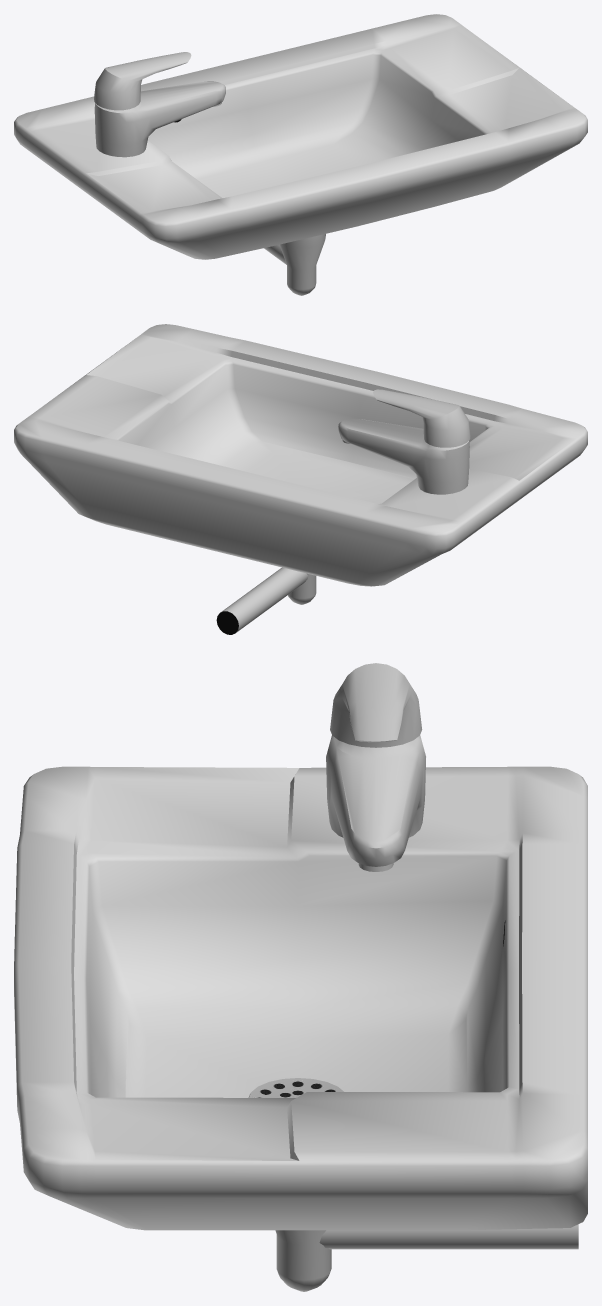
The model's file is sh_scopia_hand_washbasin.glb.
3 views of the same model, one above another, from view 1: azimuth 30°, elevation 25°; view 2: azimuth 150°, elevation 25°; view 3: azimuth 270°, elevation 25° (orthographic). The views are drawn at different scales.
Size of the model in its own units: 0.491 by 0.27 by 0.3.
6 materials, 1 textured.
